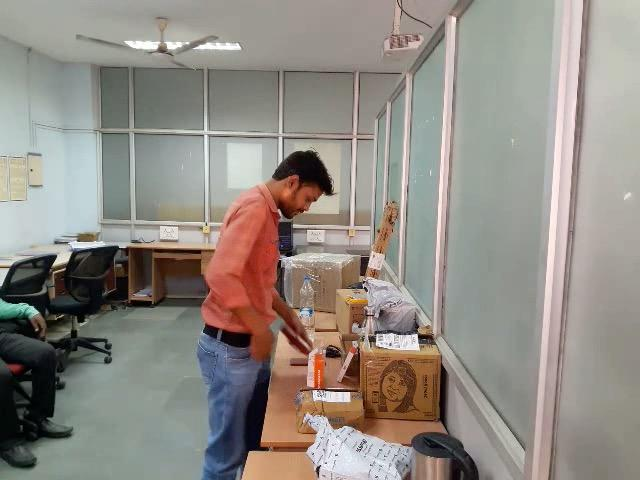shoplifting: (202, 323, 289, 402)
